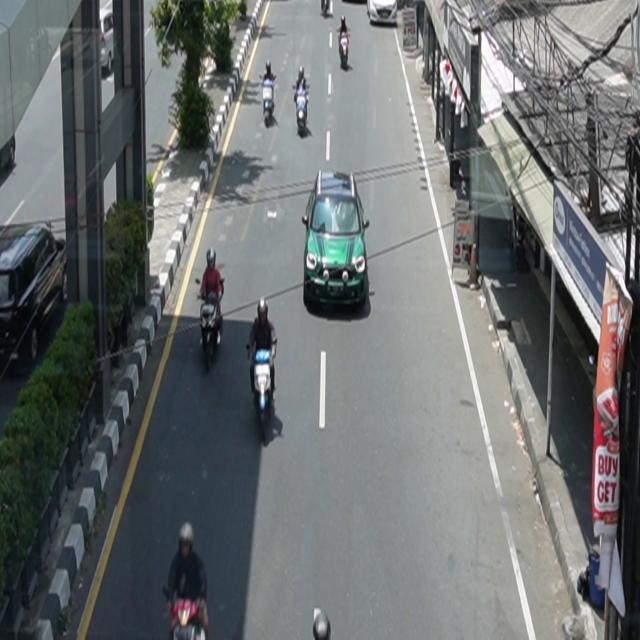car: (1, 221, 69, 366), (302, 170, 371, 312), (368, 1, 399, 26)
